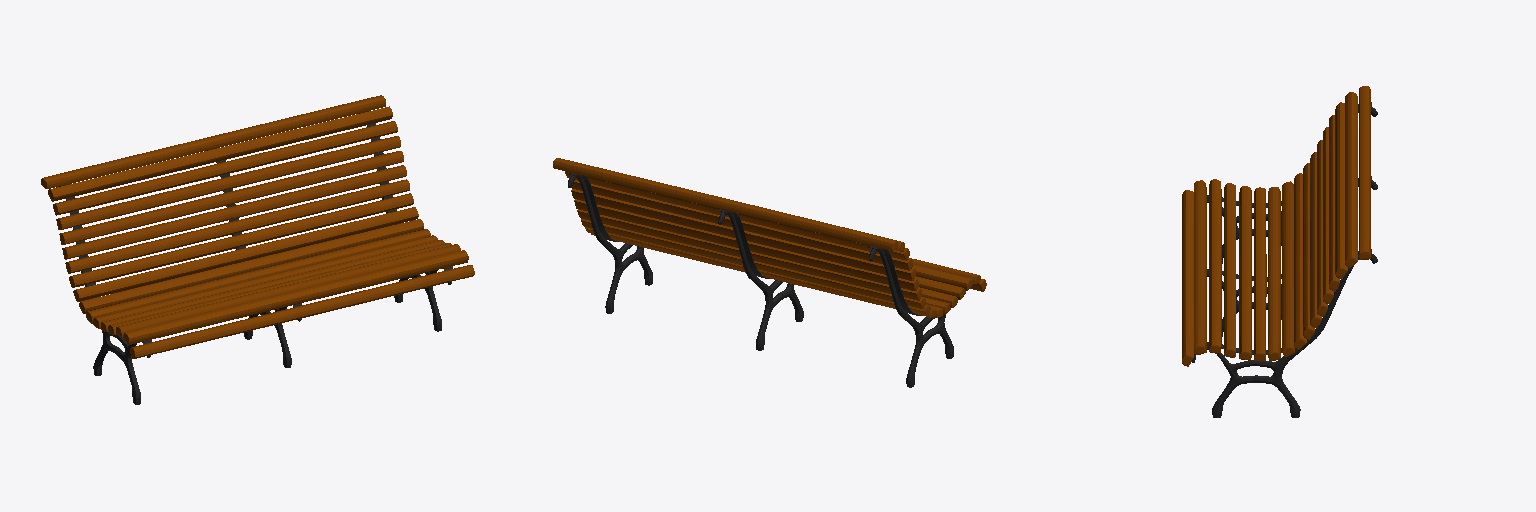
Rendered from wood_bank.obj.
3 renders of one model, left to right at view 1: azimuth 30°, elevation 25°; view 2: azimuth 150°, elevation 25°; view 3: azimuth 270°, elevation 25°, orthographic.
Visible parts, largest first — view 1: wood_Cube, base_banco_Cube.001, sopport_Mesh.001; view 2: wood_Cube, base_banco_Cube.001, sopport_Mesh.001; view 3: wood_Cube, base_banco_Cube.001.
Boxes of the visible parts, box(x1,y1,x2,y2) form: wood_Cube: box(41, 95, 474, 358); base_banco_Cube.001: box(56, 113, 451, 404); sopport_Mesh.001: box(60, 111, 452, 343); wood_Cube: box(553, 158, 986, 317); base_banco_Cube.001: box(568, 175, 953, 387); sopport_Mesh.001: box(567, 172, 921, 315); wood_Cube: box(1182, 86, 1370, 366); base_banco_Cube.001: box(1192, 107, 1377, 417).
Bounding box in the file's own units: 2 × 0.9843 × 1.